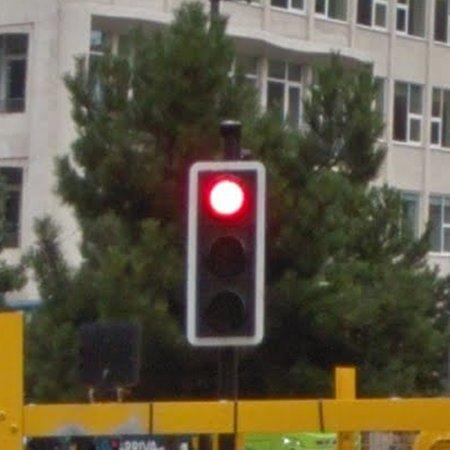traffic lights: (184, 159, 270, 347)
